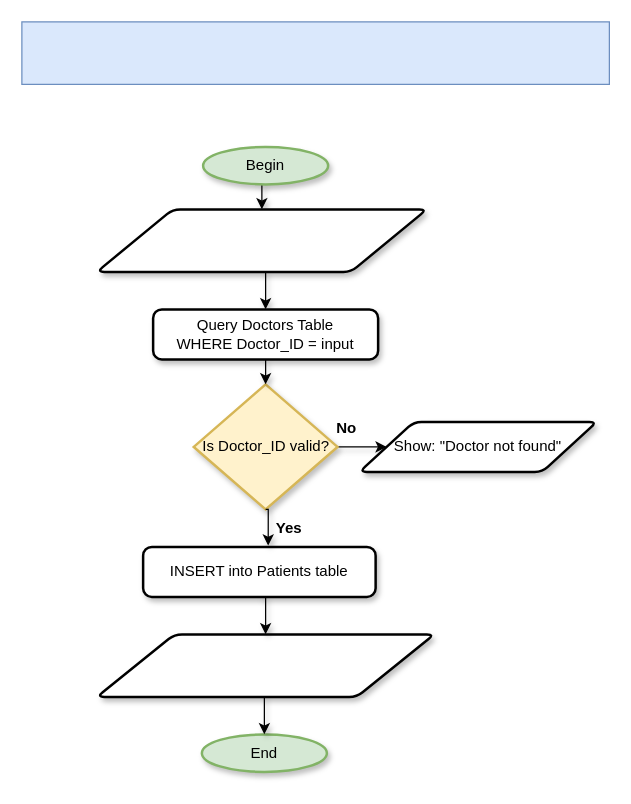
This 631x804 diagram has some shape labels left out. Each missing label, with the centre of its shape:
Flowchart: Add a New Patient to the table Patients: (x=315, y=52)
Input Patient Details (Name, DoB, Address, Role, Doctor_ID): (x=262, y=241)
Show: "Patient registered succesfully": (x=266, y=667)
